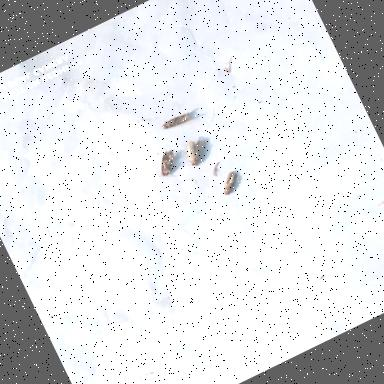pbw: (176, 130, 218, 172), (148, 146, 186, 186), (154, 106, 195, 138), (214, 166, 246, 198)
